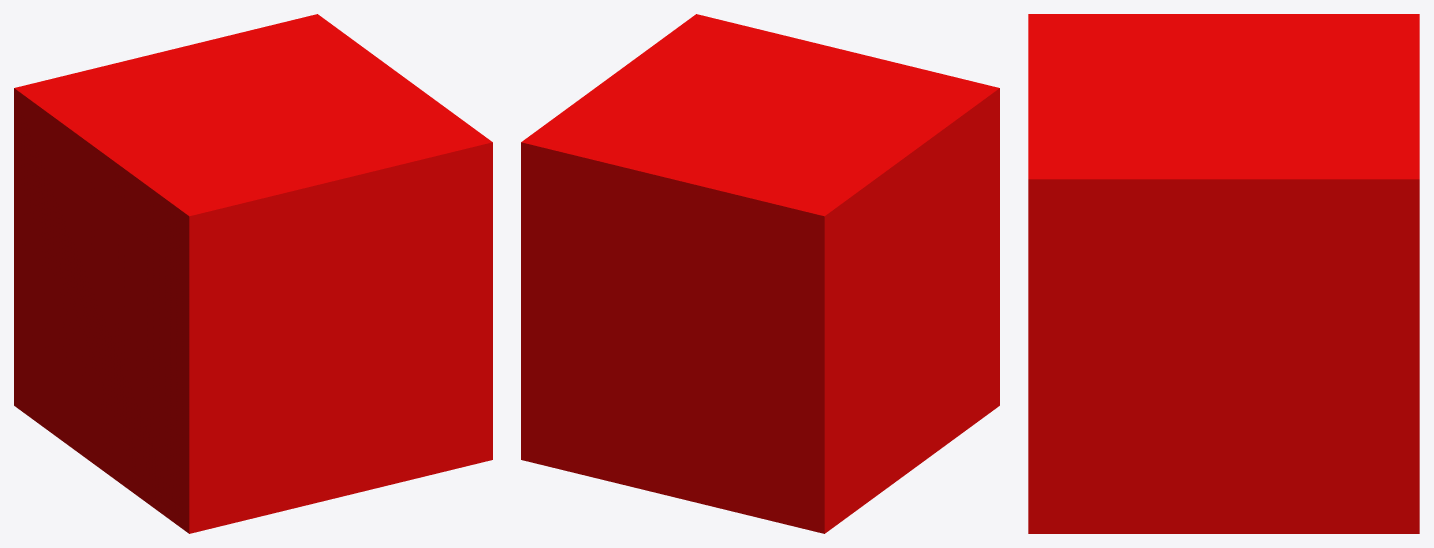
The model's file is box_character.FBX.
The picture shows the model from 3 angles, left to right: view 1: azimuth 30°, elevation 25°; view 2: azimuth 150°, elevation 25°; view 3: azimuth 270°, elevation 25°; orthographic projection. The views are drawn at different scales.
Visible parts, largest first — view 1: box; view 2: box; view 3: box.
Part boxes in pixels (x1,y1,x2,y2): box: (14,14,492,533); box: (521,14,999,533); box: (1028,14,1419,533).
Size of the model in its own units: 40 by 40 by 40.
